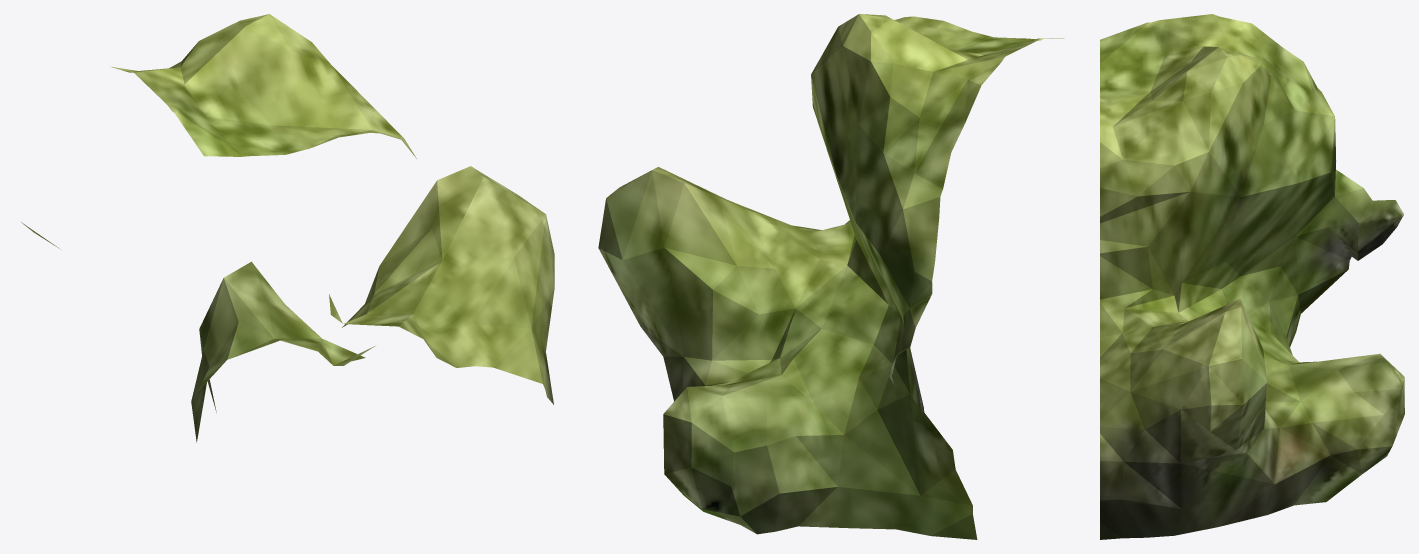
3 views of the same model, side by side, from view 1: azimuth 30°, elevation 25°; view 2: azimuth 150°, elevation 25°; view 3: azimuth 270°, elevation 25° (orthographic). The views are drawn at different scales.
Bounding box in the file's own units: 1.03 × 1.18 × 0.8049.
1 material, 1 textured.
